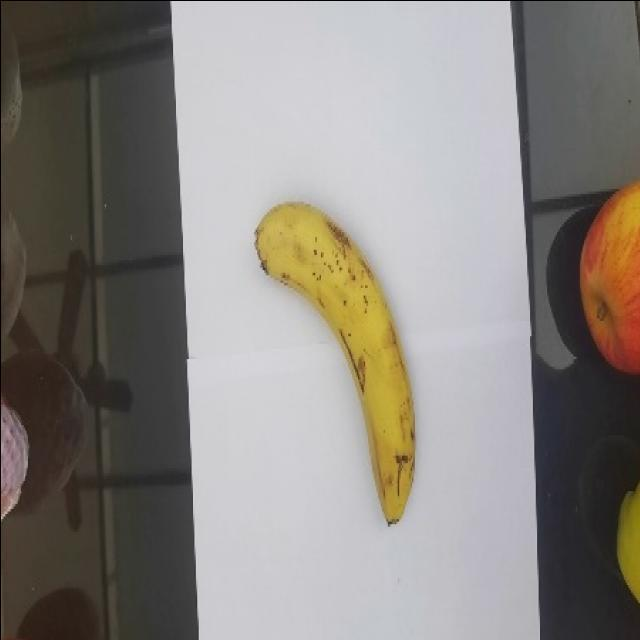Apple: (578, 179, 639, 375)
Banana: (253, 200, 416, 526)
